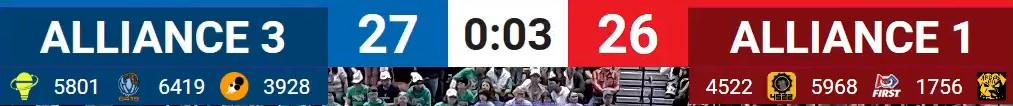blue_score: (354, 11, 421, 58)
red_score: (593, 9, 660, 58)
team_number: (154, 74, 209, 101), (702, 74, 756, 98), (259, 75, 312, 97), (914, 75, 966, 97), (51, 74, 100, 97), (808, 76, 860, 97)
timer: (462, 13, 555, 53)
